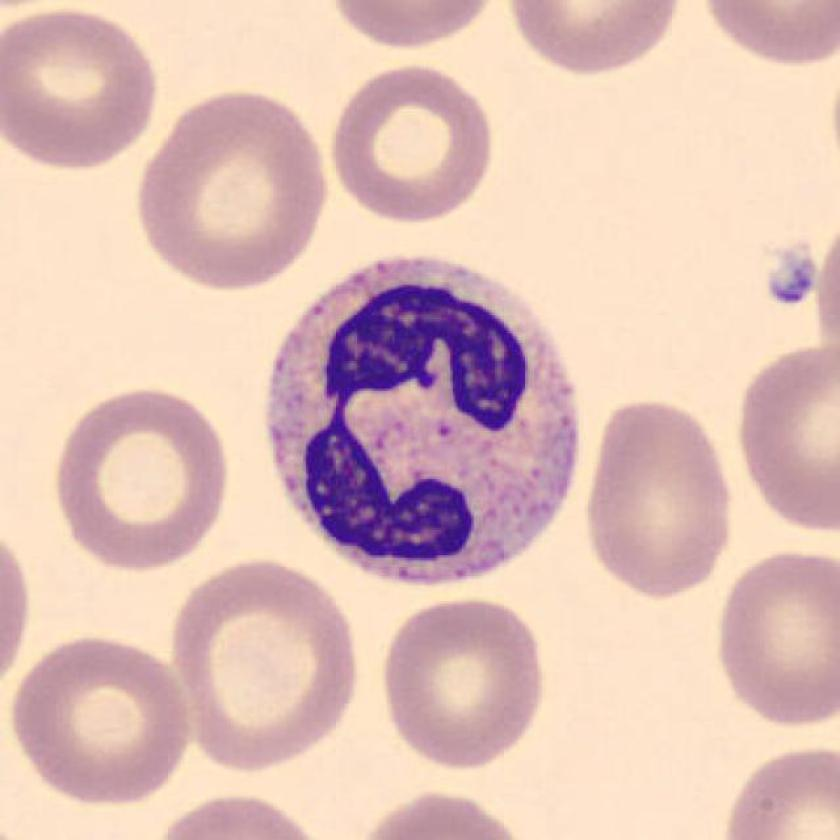neutrophil: (268, 264, 581, 579)
